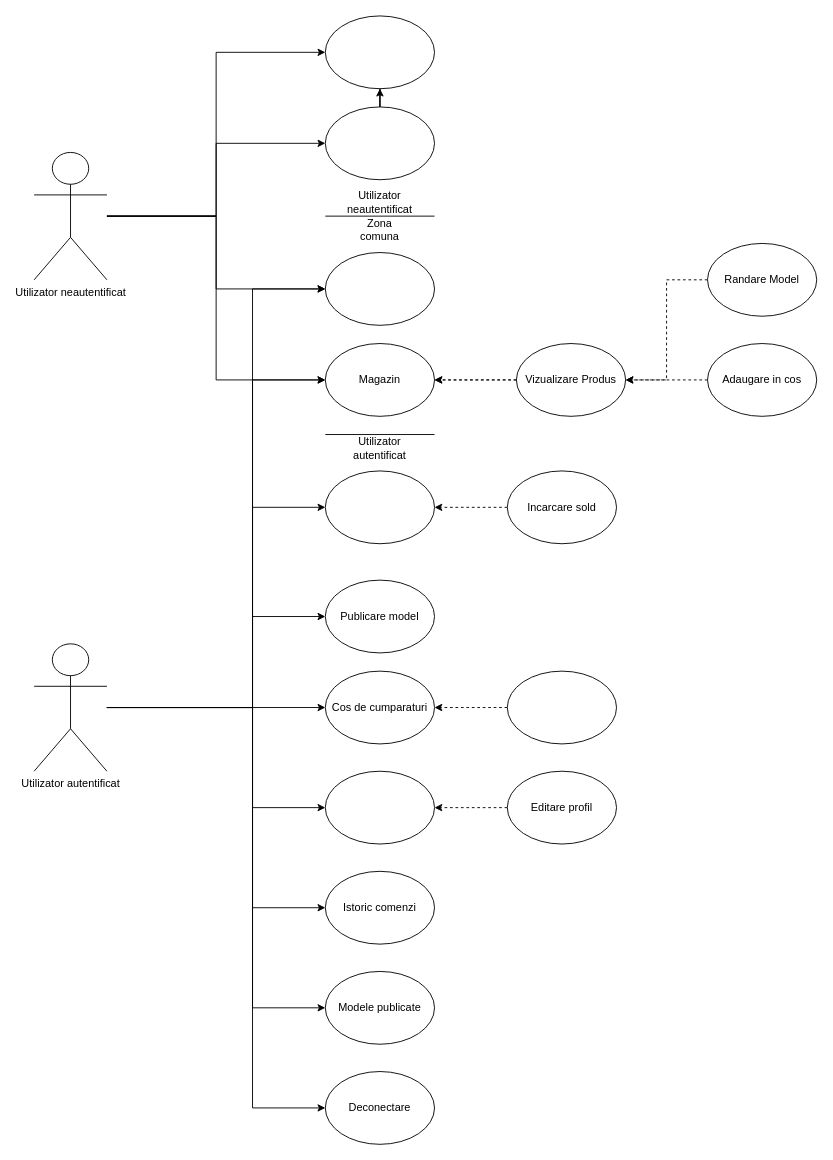
This 833x1160 diagram has some shape labels left out. The centre of each missing label's shape, as x and y in pixels:
Acasa: pixel 379 288
Autentificare: pixel 379 52
Inregistrare: pixel 379 143
Plasare comanda: pixel 561 707
Profil: pixel 379 807
Vizualizare sold: pixel 379 507
